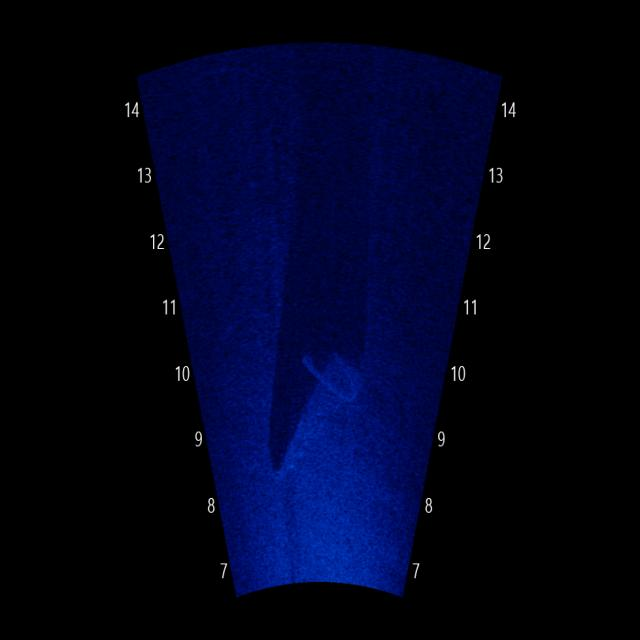triangle: (255, 339, 370, 513)
